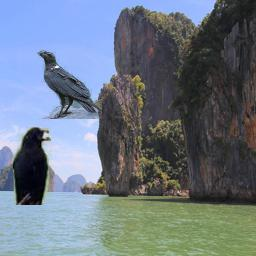Crow: (37, 50, 102, 119), (13, 127, 53, 205)
